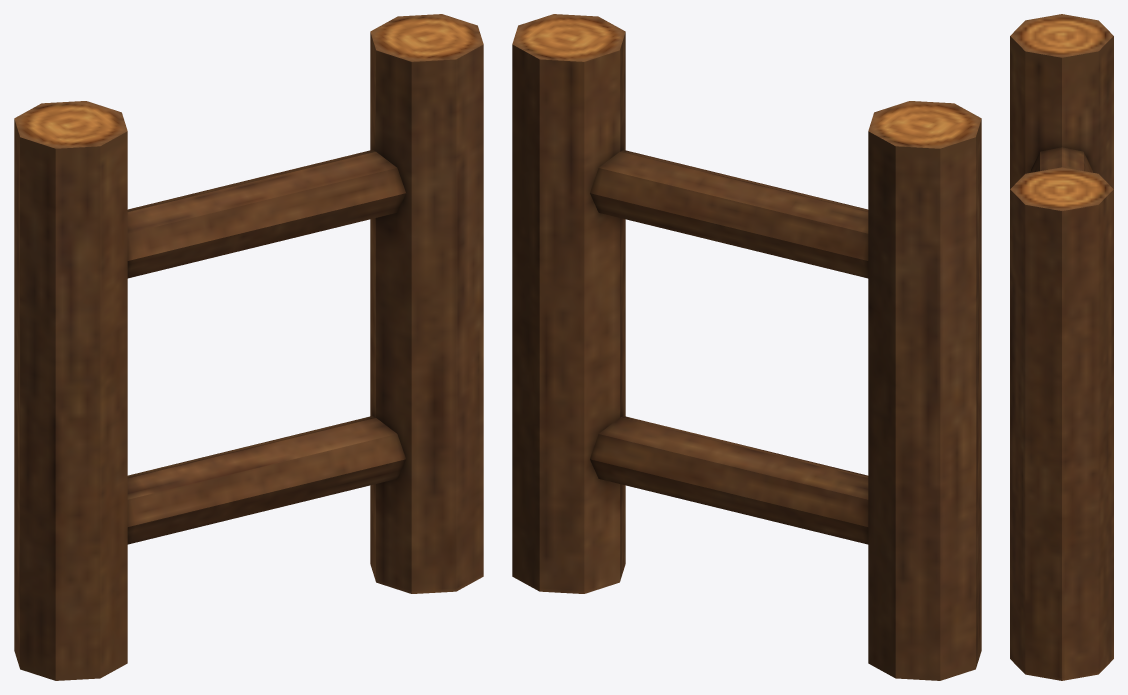
File: Ladder01.fbx
3 renders of one model, left to right at view 1: azimuth 30°, elevation 25°; view 2: azimuth 150°, elevation 25°; view 3: azimuth 270°, elevation 25°, orthographic. The views are drawn at different scales.
Visible parts, largest first — view 1: Ladder01; view 2: Ladder01; view 3: Ladder01.
Boxes of the visible parts, x1=… form: Ladder01: x1=14, y1=14, x2=483, y2=680; Ladder01: x1=512, y1=14, x2=981, y2=680; Ladder01: x1=1010, y1=14, x2=1113, y2=680.
Bounding box in the file's own units: 0.9 × 1 × 0.2.
